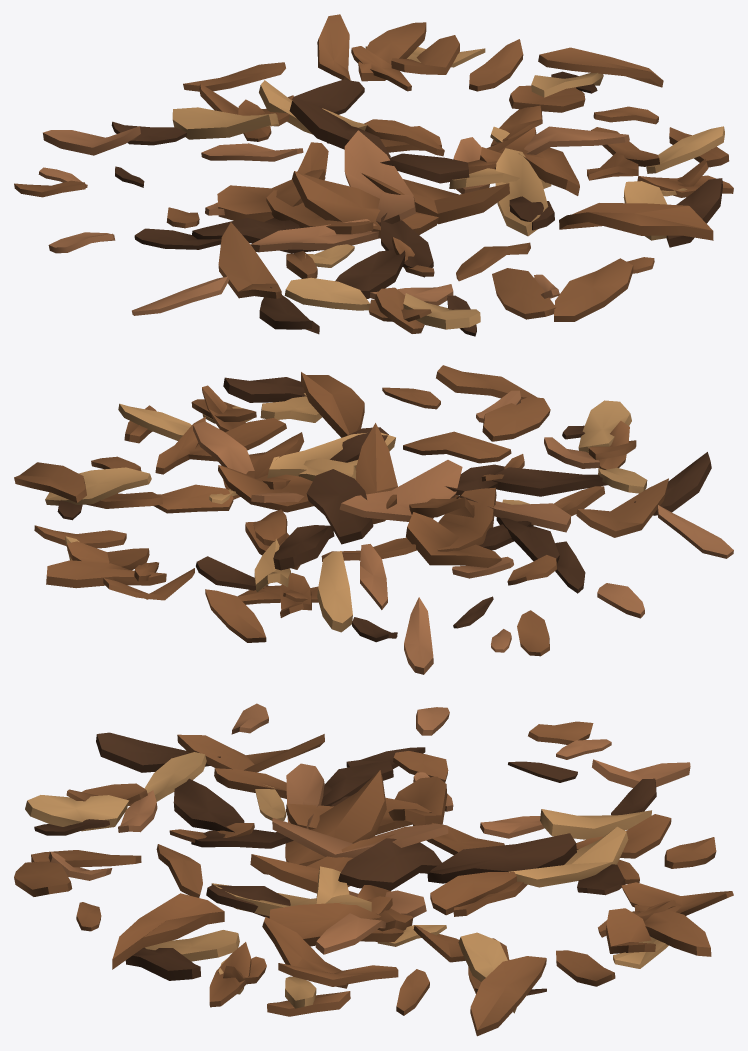
The model's file is canopy_gc_bark_bits_c.glb.
The picture shows the model from 3 angles, top to bottom: view 1: azimuth 30°, elevation 25°; view 2: azimuth 150°, elevation 25°; view 3: azimuth 270°, elevation 25°; orthographic projection. The views are drawn at different scales.
Parts seen in each view (by area): view 1: canopy_gc_bark_bits_c; view 2: canopy_gc_bark_bits_c; view 3: canopy_gc_bark_bits_c.
Part boxes in pixels (x1,y1,x2,y2): canopy_gc_bark_bits_c: (14,14,733,336); canopy_gc_bark_bits_c: (14,365,733,674); canopy_gc_bark_bits_c: (14,703,733,1036).
Bounding box in the file's own units: 7.78 × 0.611 × 7.26.
